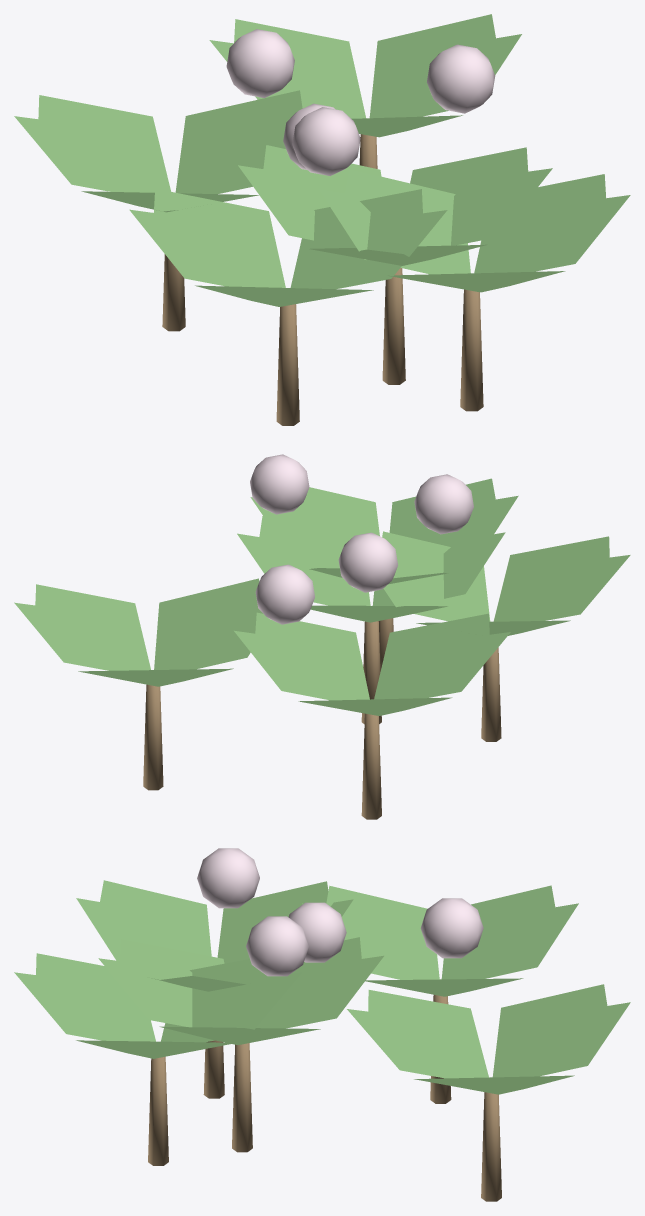
The model's file is clover.glb.
3 renders of one model, top to bottom at view 1: azimuth 30°, elevation 25°; view 2: azimuth 150°, elevation 25°; view 3: azimuth 270°, elevation 25°, orthographic. The views are drawn at different scales.
Visible parts, largest first — view 1: org_clover; view 2: org_clover; view 3: org_clover.
Boxes of the visible parts, x1,y1,x2,y2 form: org_clover: [14, 14, 630, 425]; org_clover: [14, 454, 630, 819]; org_clover: [14, 848, 630, 1201].
Size of the model in its own units: 0.2834 by 0.169 by 0.3519.
